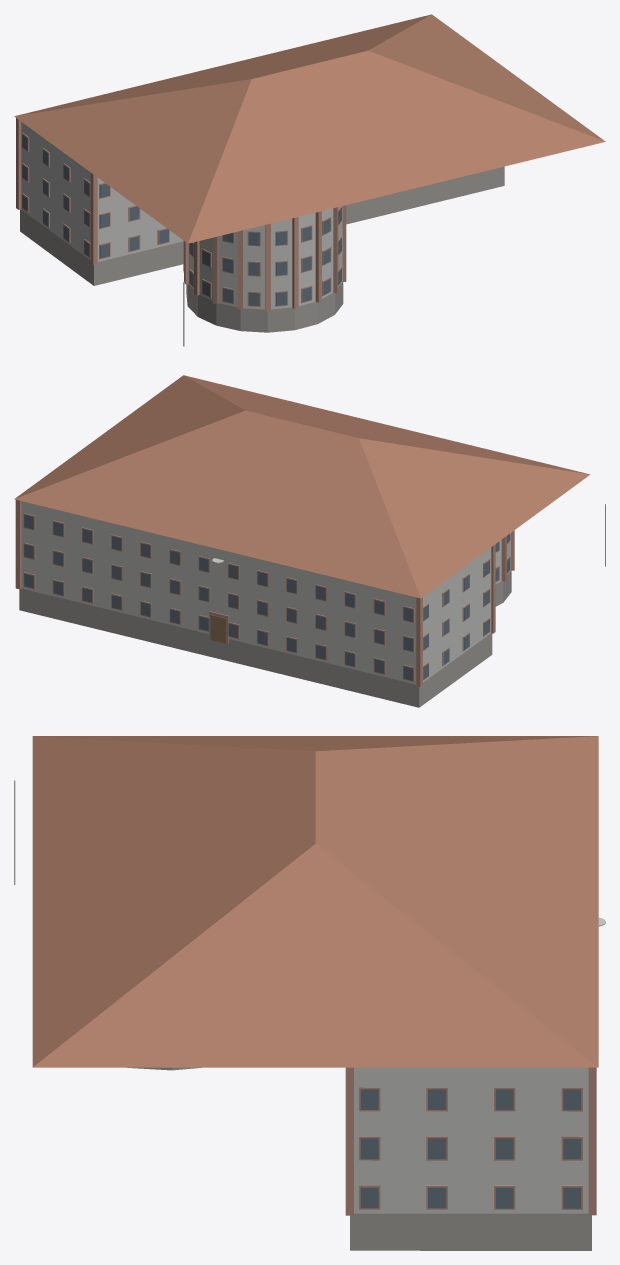
Rendered from landmark-townhall-rathaus.glb.
3 renders of one model, top to bottom at view 1: azimuth 30°, elevation 25°; view 2: azimuth 150°, elevation 25°; view 3: azimuth 270°, elevation 25°, orthographic. The views are drawn at different scales.
Parts seen in each view (by area): view 1: building; view 2: building; view 3: building.
Part boxes in pixels (x1,y1,x2,y2): building: (14,14,605,346); building: (14,375,605,707); building: (14,736,605,1250).
Size of the model in its own units: 48.85 by 19.5 by 36.01.
